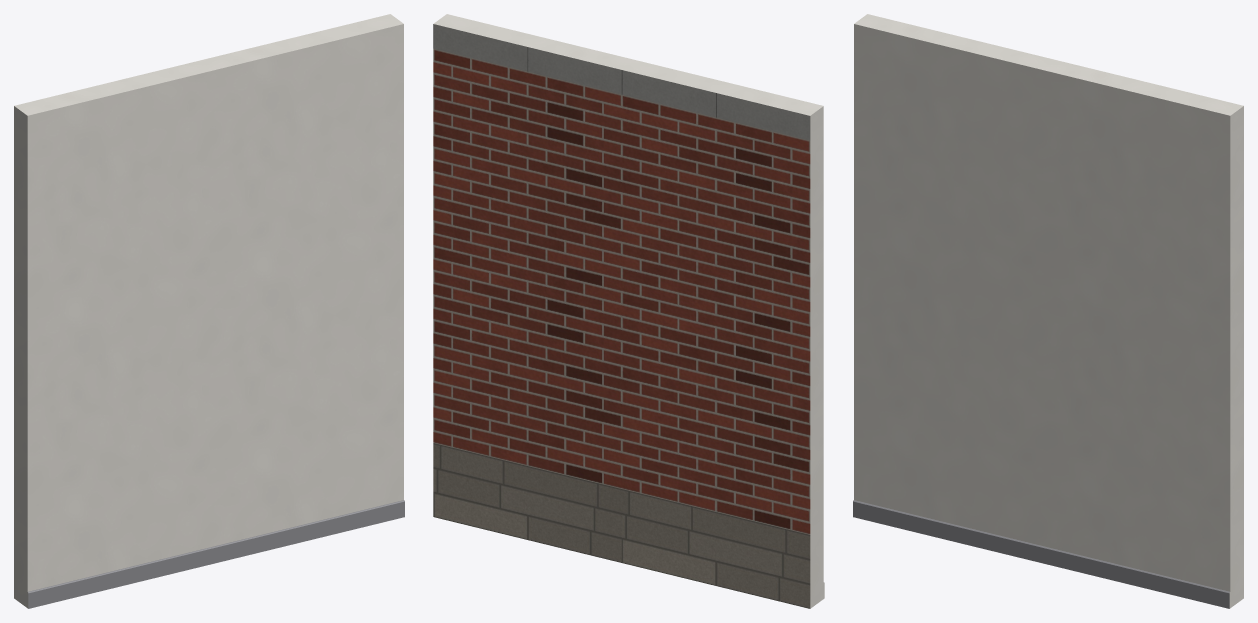
File: wall_240.glb
3 renders of one model, left to right at view 1: azimuth 30°, elevation 25°; view 2: azimuth 150°, elevation 25°; view 3: azimuth 330°, elevation 25°, orthographic.
Parts seen in each view (by area): view 1: wall_240-col; view 2: wall_240-col; view 3: wall_240-col.
Part boxes in pixels (<box>): wall_240-col: <box>14,14,404,608</box>; wall_240-col: <box>433,14,824,608</box>; wall_240-col: <box>853,14,1243,608</box>.
Bounding box in the file's own units: 2.4 × 3 × 0.16.
Materials: 5 (4 with a texture image).
